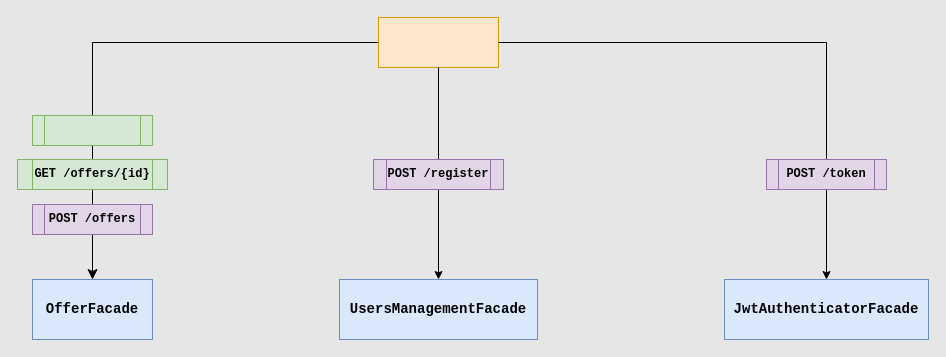
The diagram is 946 pixels wide and 357 high, and some of its shapes have lost their labels. Each missing label, with the centre of its shape:
GET /offers: pixel 92 130
User: pixel 438 42
